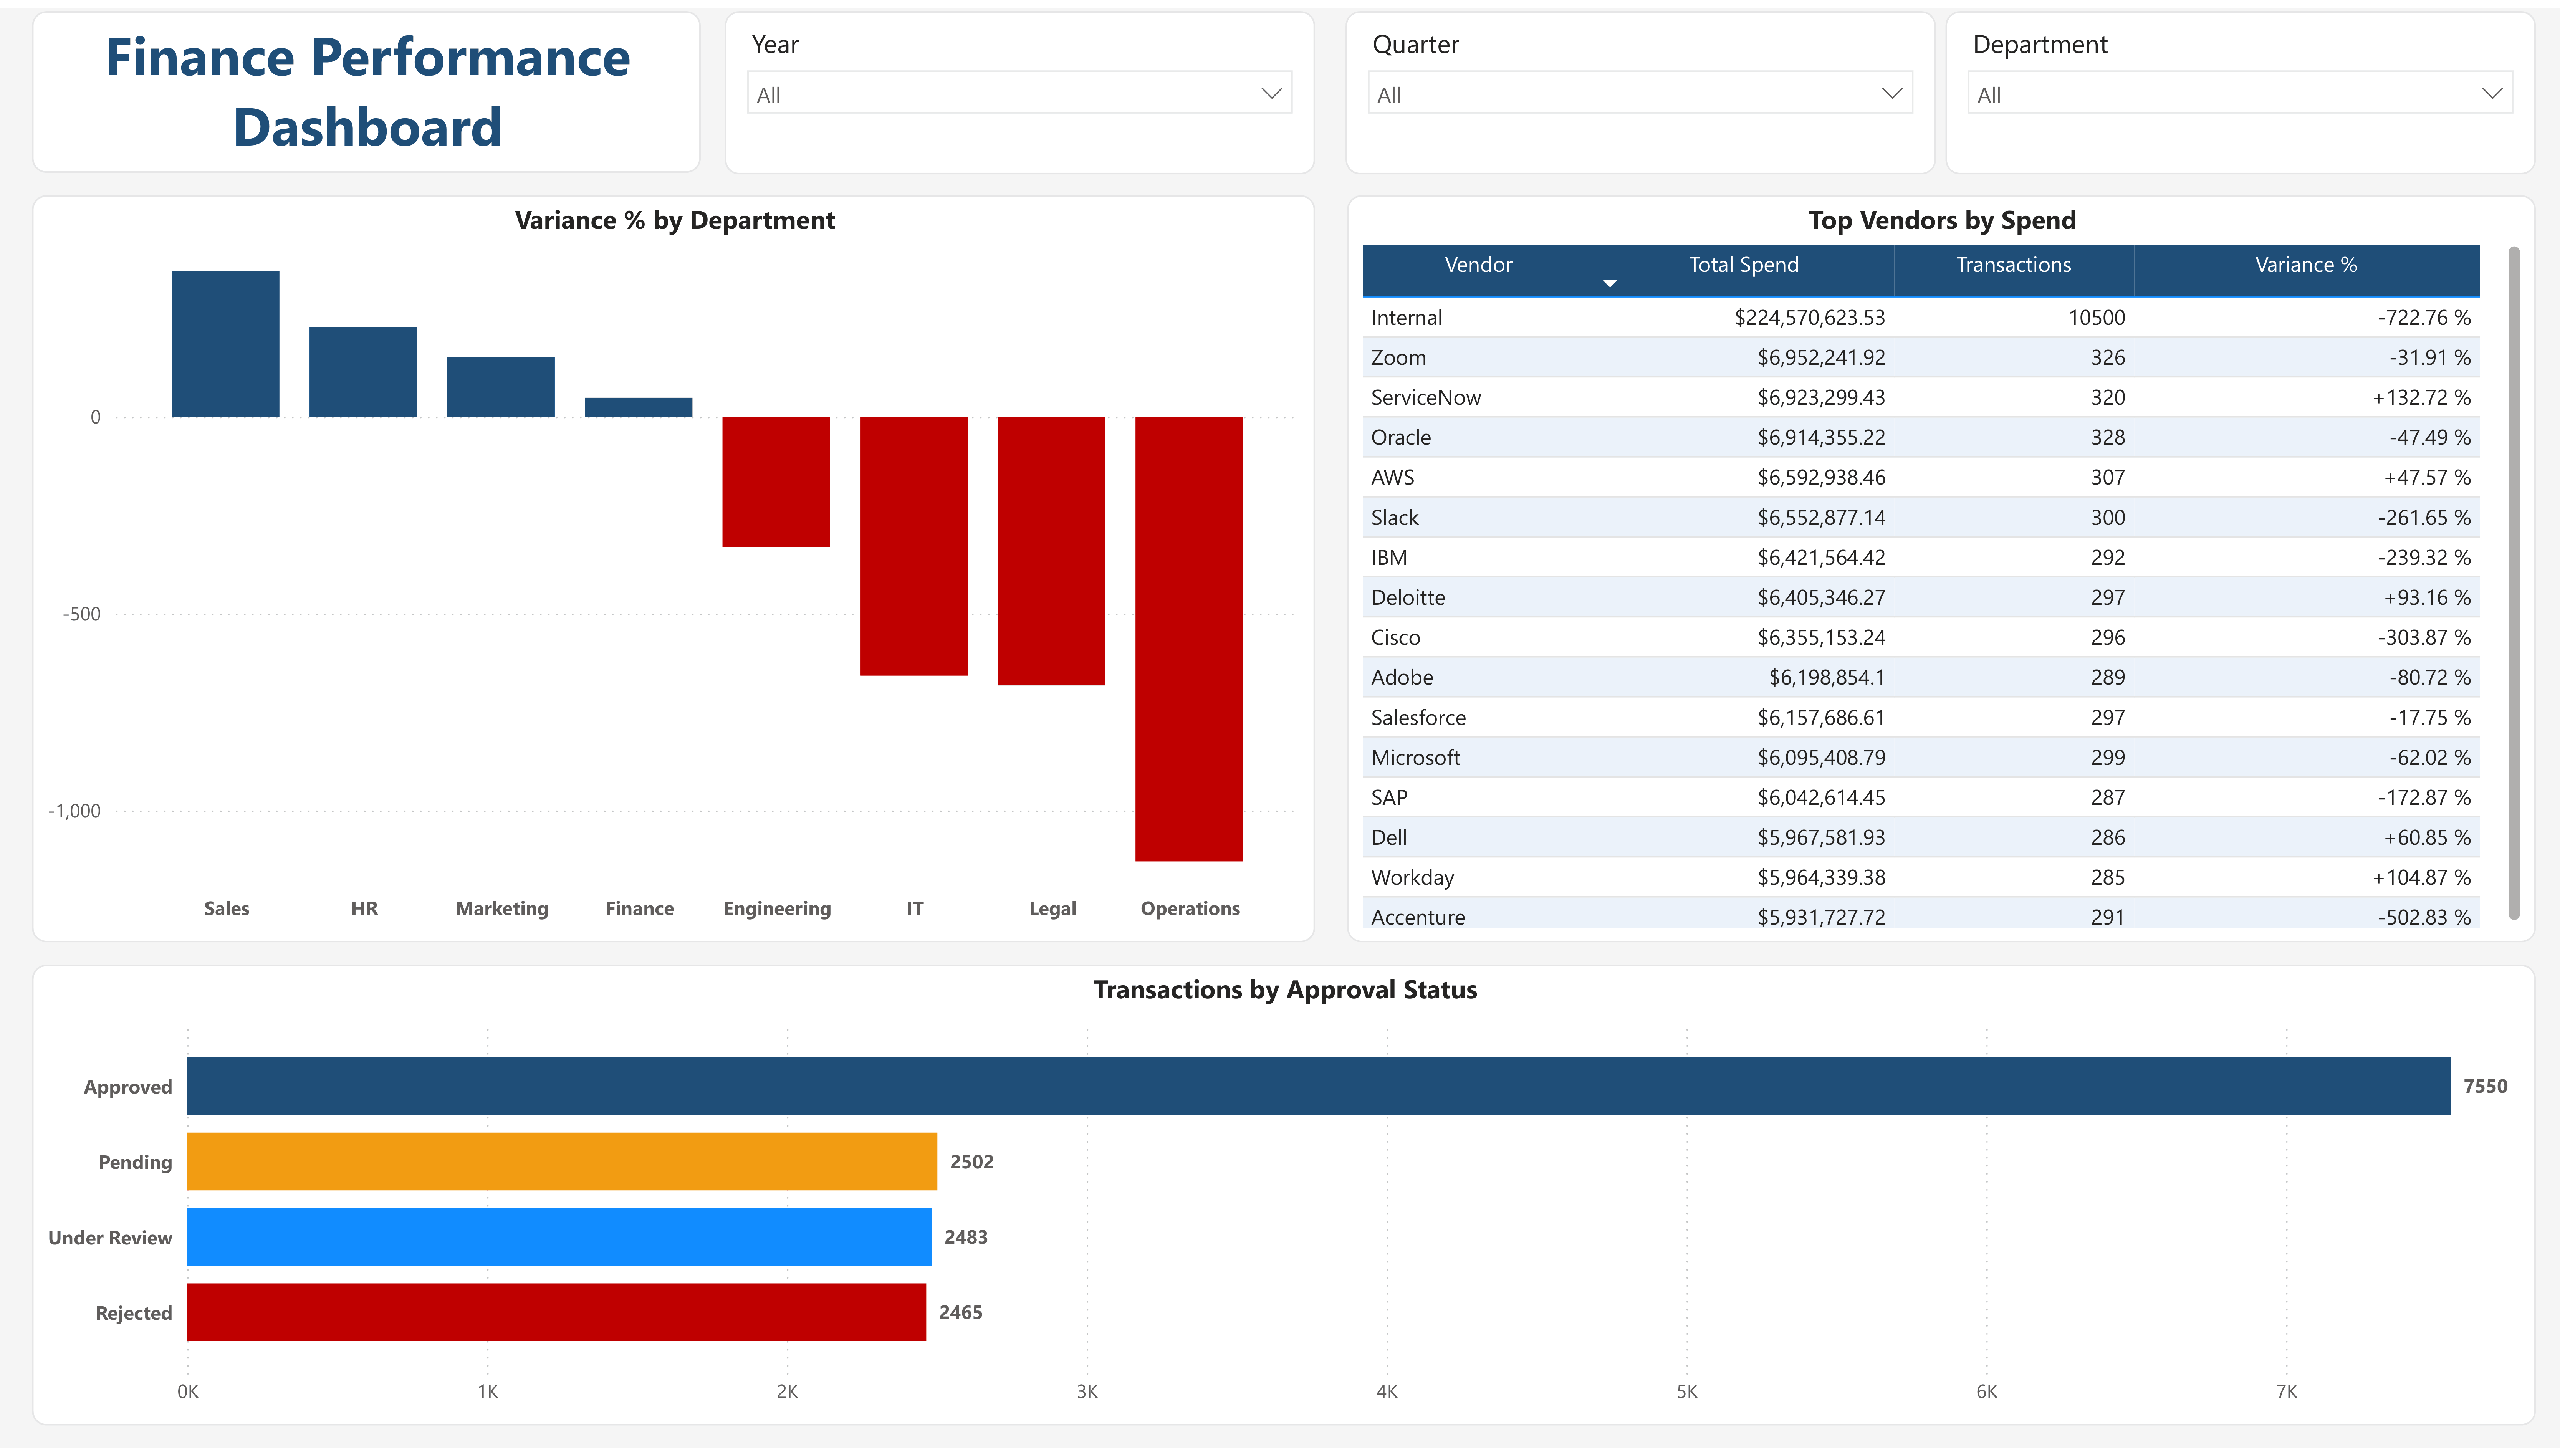

What the dashboard file says about the page in this screenshot:
{"tool":"powerbi","page":{"name":"Page 2","canvas":[1600,900],"ordinal":1},"visuals":[{"type":"slicer","fields":{"Values":["Transactions.Year"]},"box":[452.9,2,368.6,102],"z":0},{"type":"slicer","fields":{"Values":["Transactions.Department"]},"box":[1215.7,2,368.6,102],"z":1},{"type":"slicer","fields":{"Values":["Transactions.Quarter"]},"box":[841.2,2,368.6,102],"z":2},{"type":"clusteredColumnChart","title":"Variance % by Department","fields":{"Category":["Transactions.Department"],"Y":["Sum(Transactions.Variance Pct)"]},"box":[19.8,116.8,802,467.3],"z":3},{"type":"tableEx","title":"Top Vendors by Spend","fields":{"Values":["Transactions.Vendor","Sum(Transactions.Actual Spend)","Transactions.Transaction ID","Sum(Transactions.Variance Pct)"]},"box":[841.6,116.8,742.6,467.3],"z":4},{"type":"clusteredBarChart","title":"Transactions by Approval Status","fields":{"Category":["Transactions.Status"],"Y":["CountNonNull(Transactions.Transaction ID)"]},"box":[19.6,598,1564.7,288.2],"z":5},{"type":"textbox","title":"Finance Performance Dashboard","box":[19.8,2,417.8,101],"z":6}]}

Visuals, with their boxes in screenshot pixels (x1, y1, x2, y2), scaled from the page's 1600x900 canvas onto the 2560x1456 screenshot:
slicer - Transactions.Year: box(725, 3, 1314, 168)
slicer - Transactions.Department: box(1945, 3, 2535, 168)
slicer - Transactions.Quarter: box(1346, 3, 1936, 168)
"Variance % by Department" clusteredColumnChart: box(32, 189, 1315, 945)
"Top Vendors by Spend" tableEx: box(1347, 189, 2535, 945)
"Transactions by Approval Status" clusteredBarChart: box(31, 968, 2535, 1434)
"Finance Performance Dashboard" textbox: box(32, 3, 700, 167)
